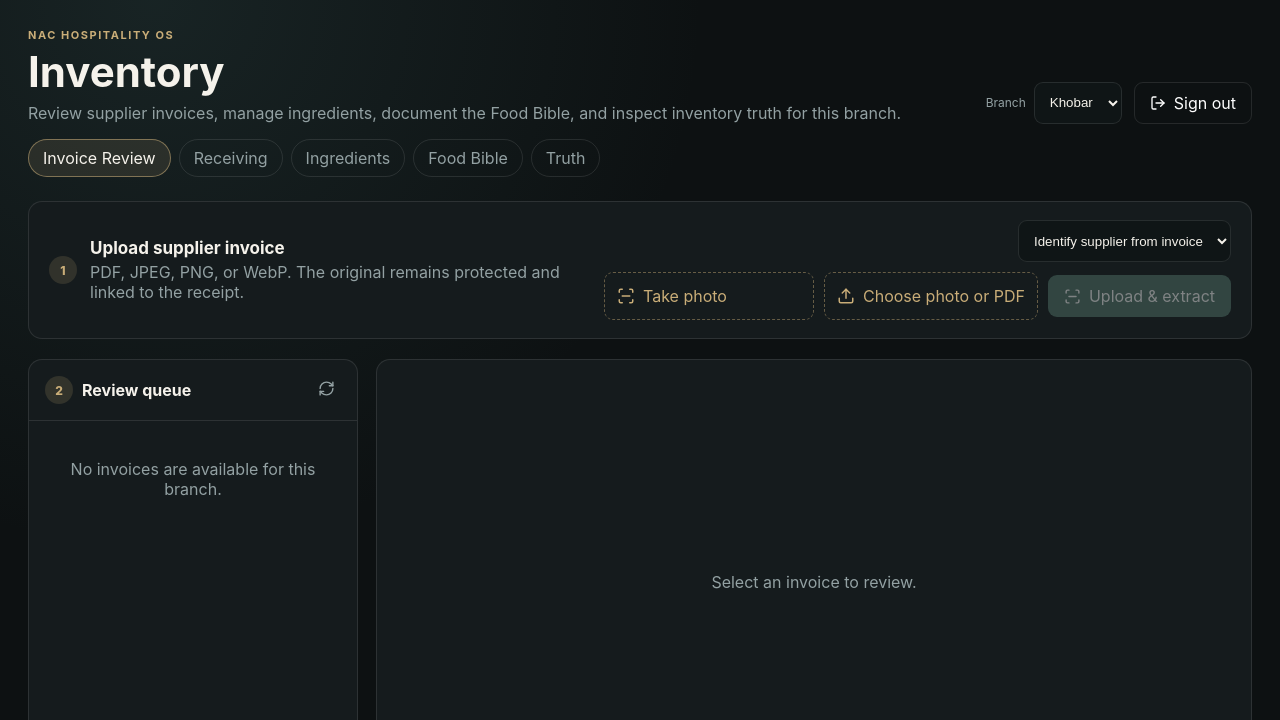
Test: InventoryApp › switches between inventory sections without breaking invoice review
Expected: the heading "Upload supplier invoice" is shown, [90,238,285,258]
Click the button with test id "inventory-tab-ingredients": (348, 158) [291,139,405,177]
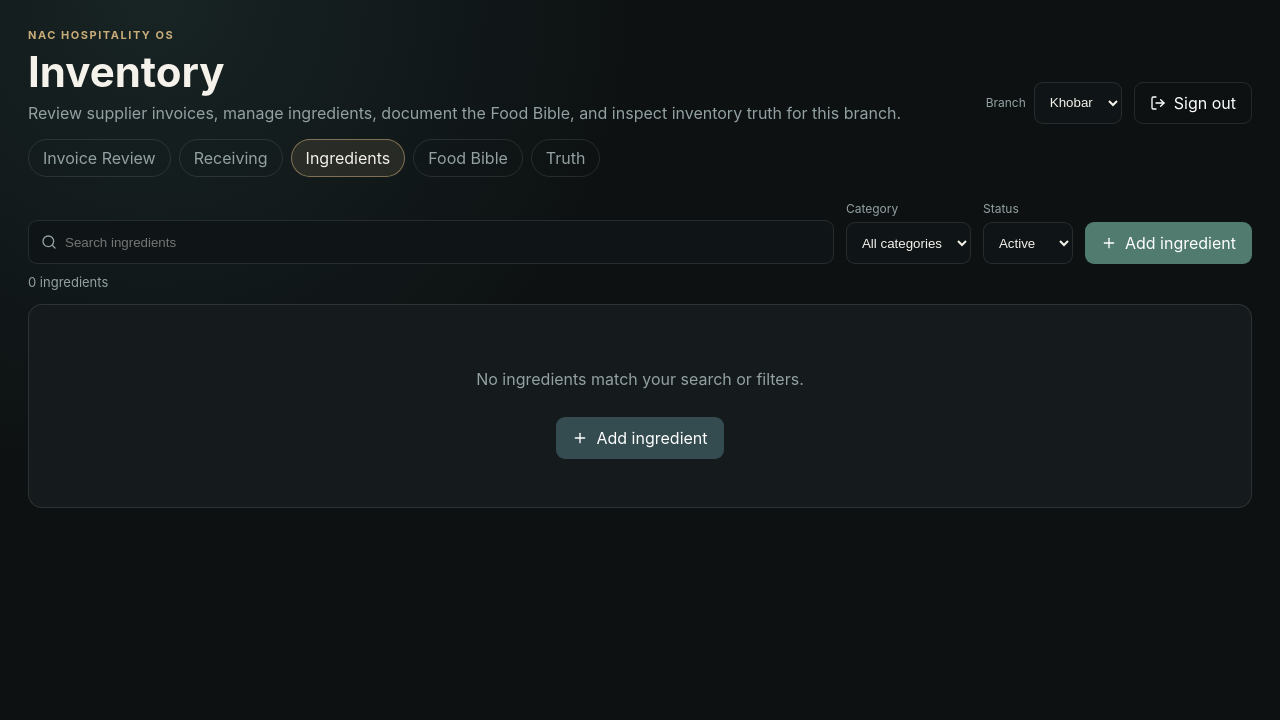
Expected: the element with test id "ingredient-master-view" is shown, [28,201,1252,508]
Click the button with test id "inventory-tab-food-bible": (468, 158) [413,139,523,177]
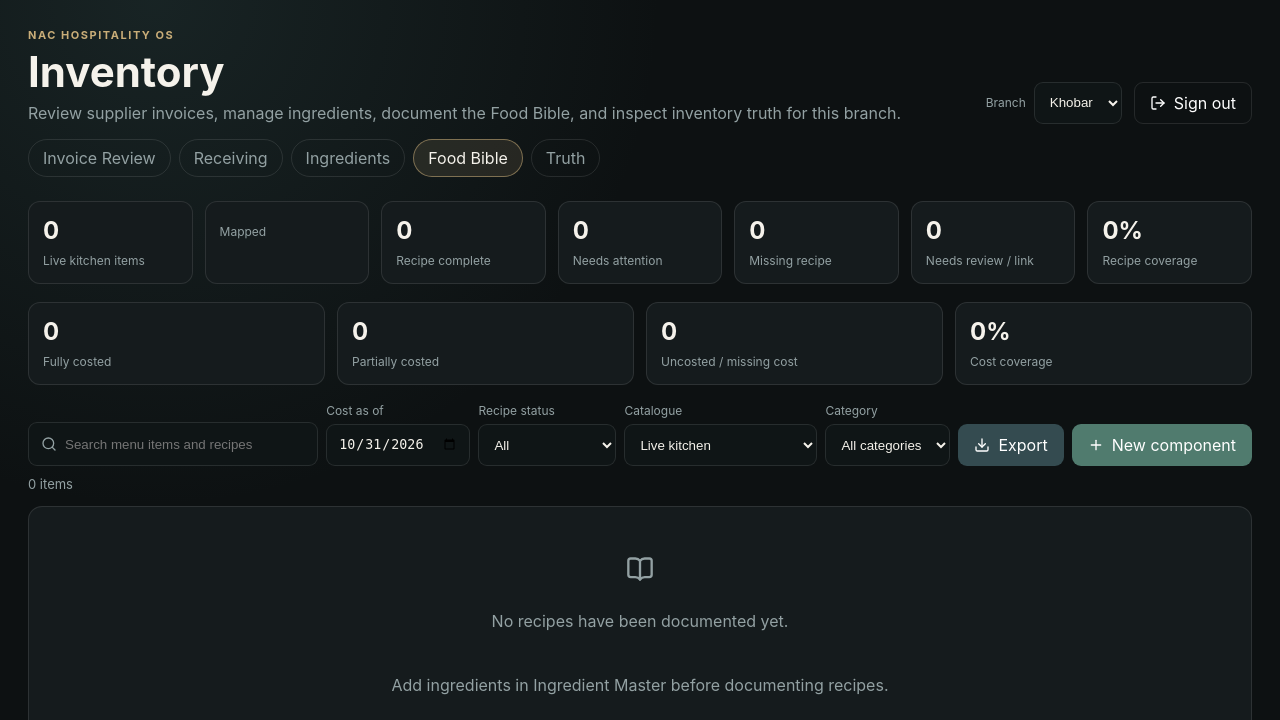
Click the button with test id "inventory-tab-invoices": (99, 158) [28,139,171,177]
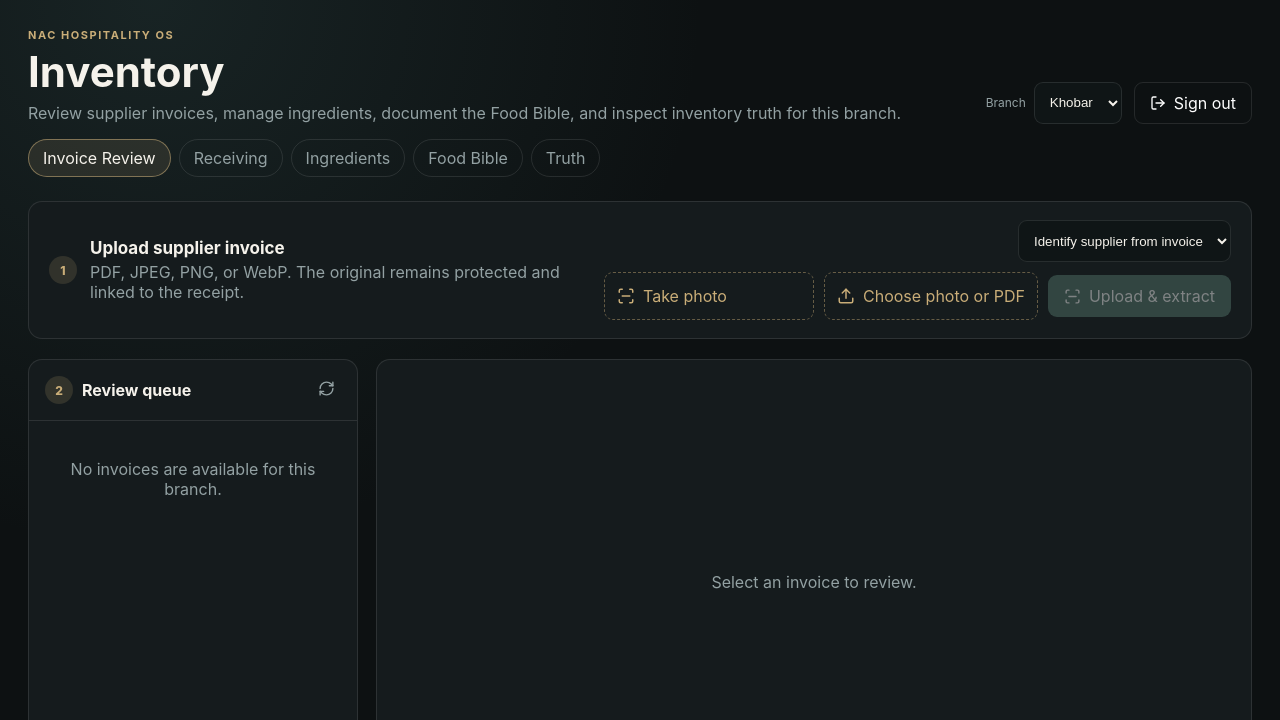
Expected: the heading "Upload supplier invoice" is shown, [90,238,285,258]
